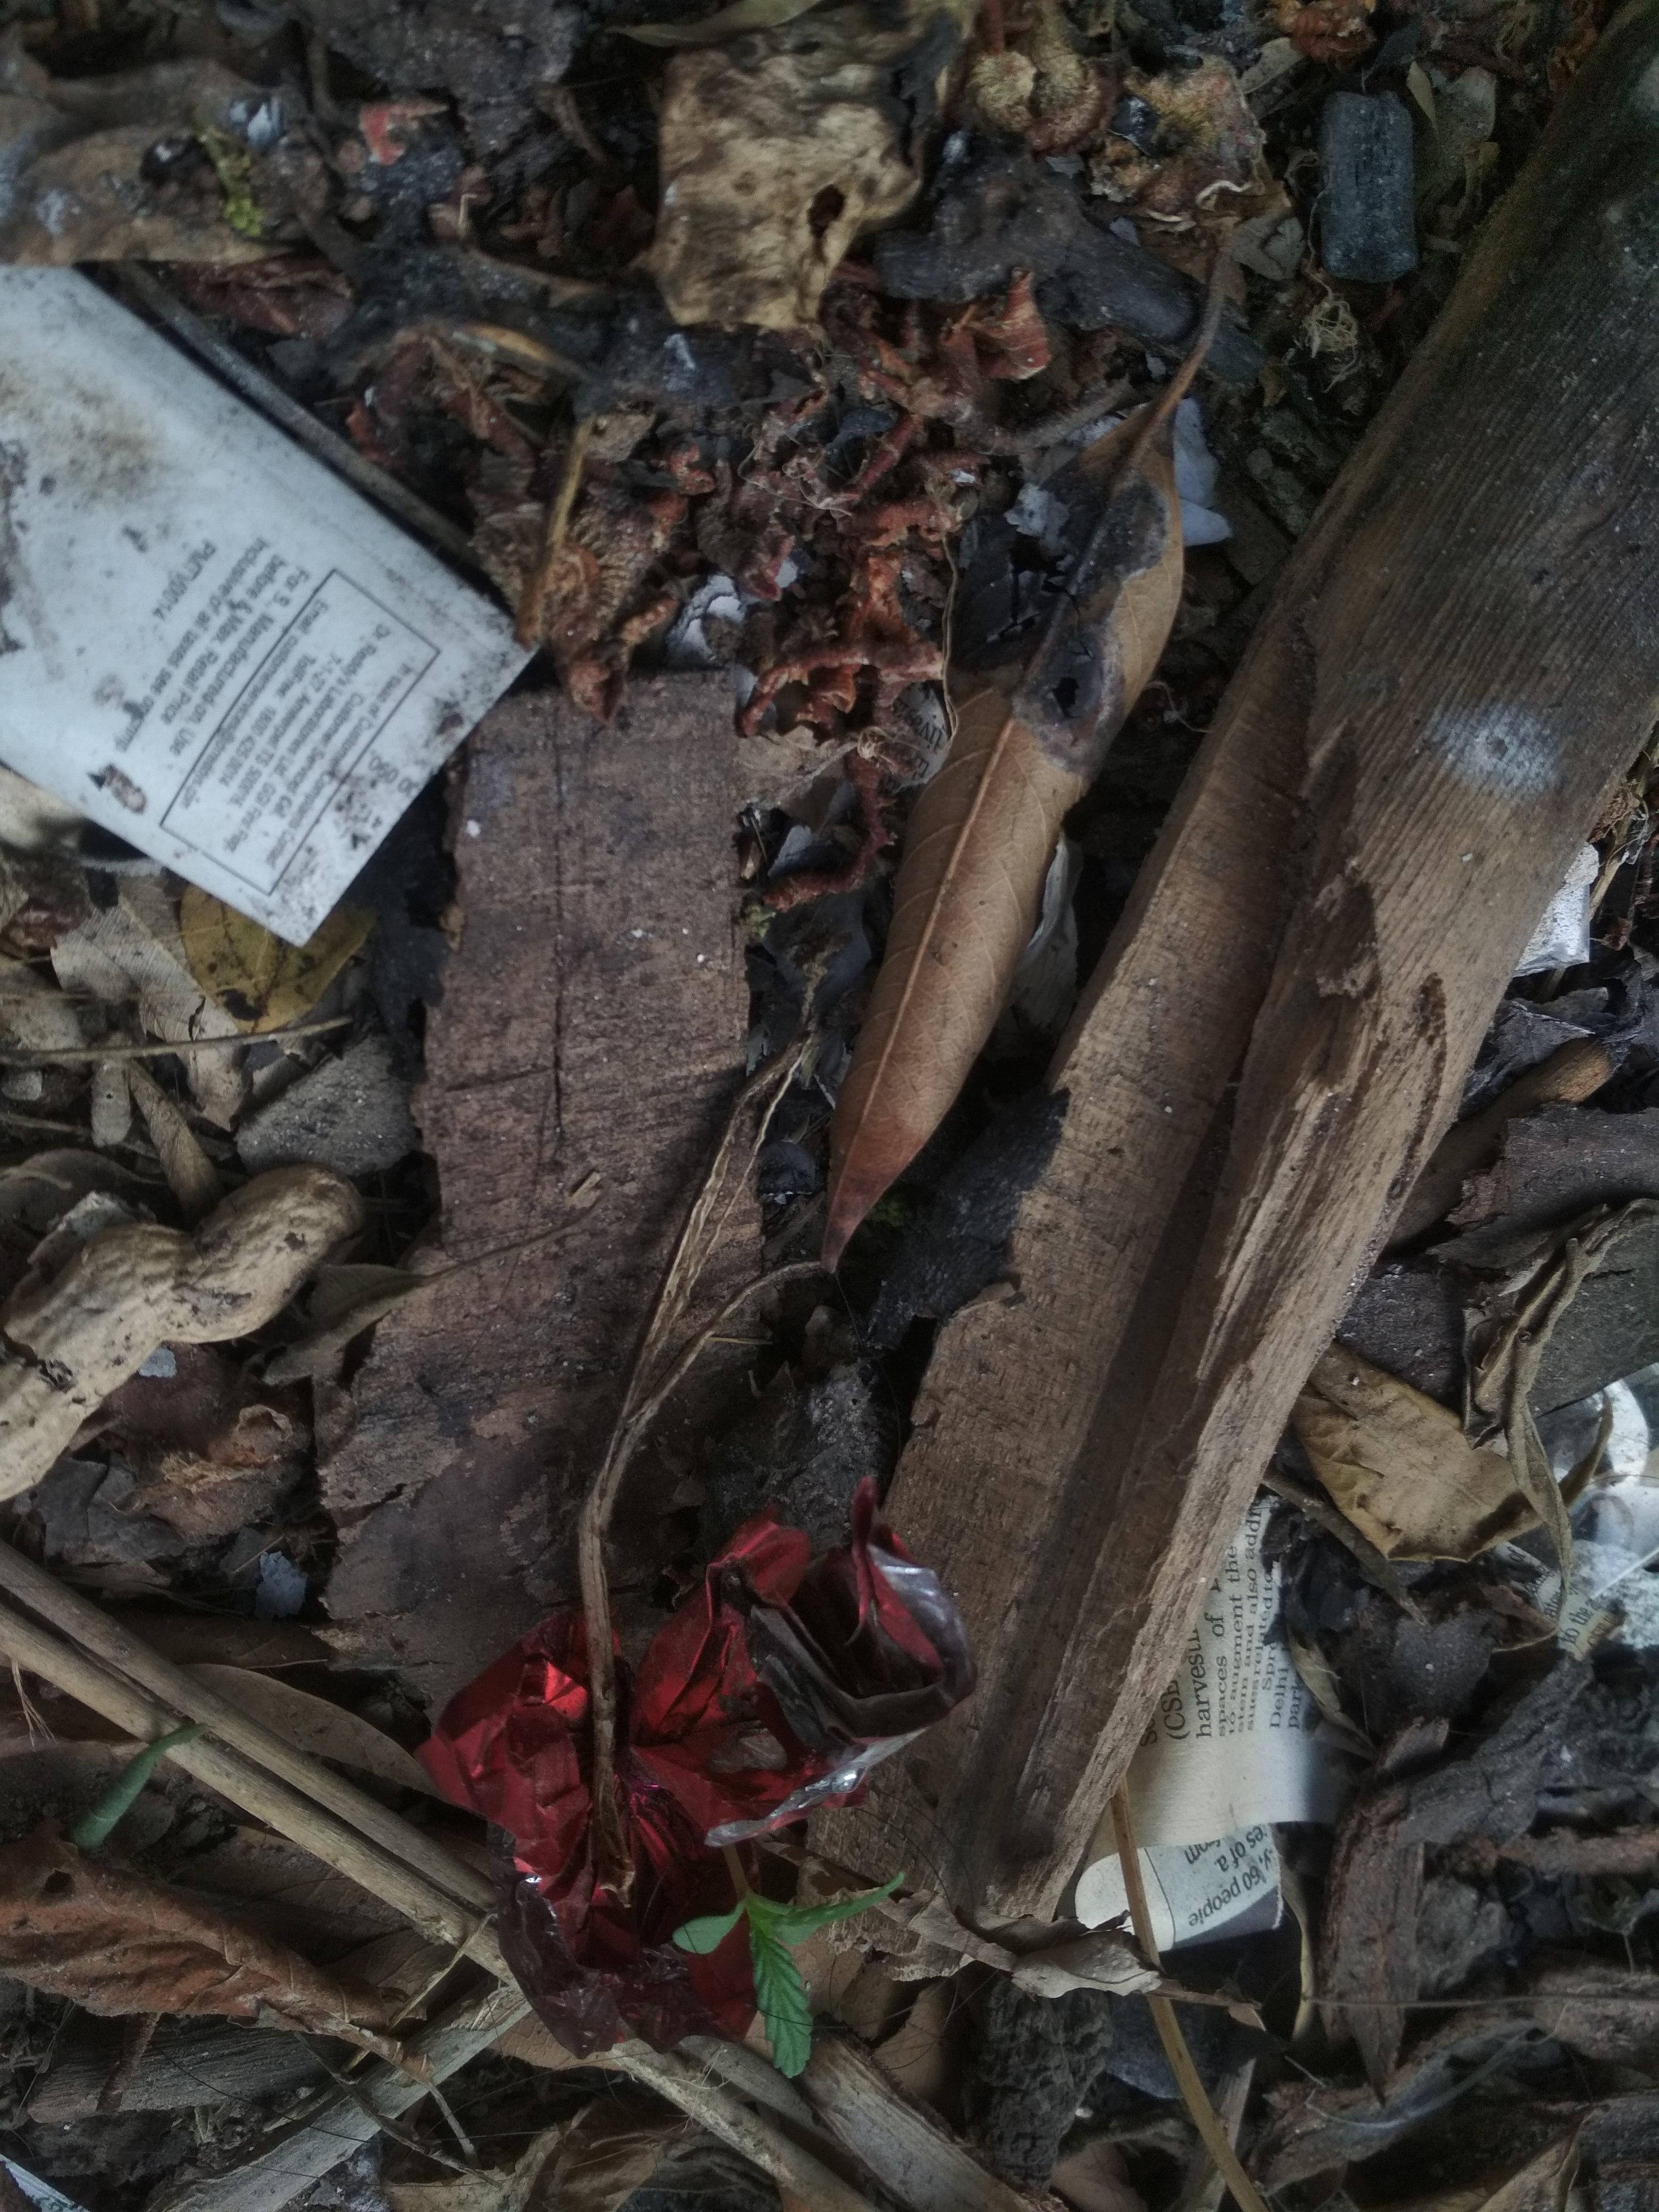trash: (0, 200, 558, 988)
